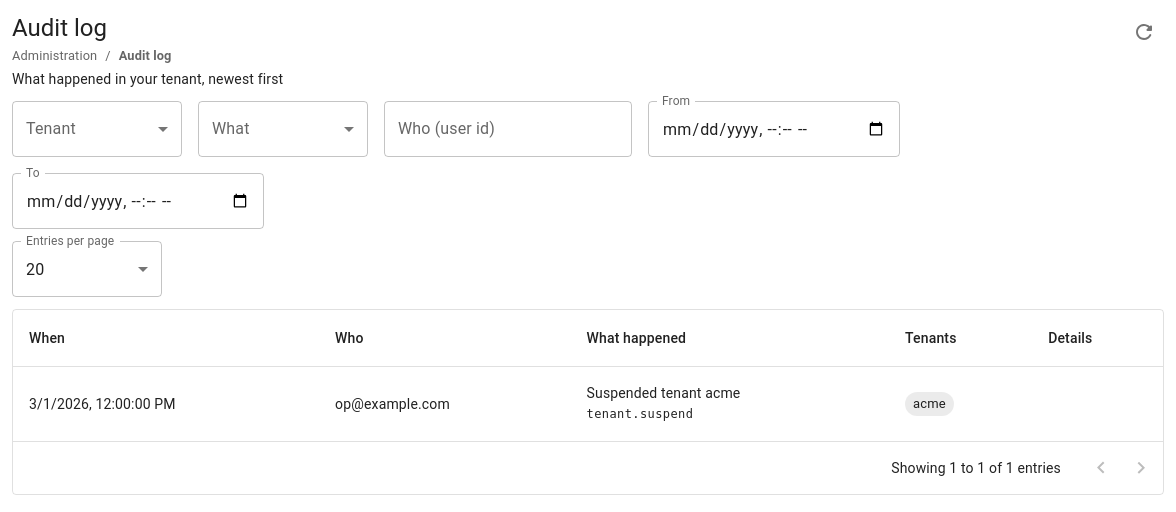
Test: AuditPage › as a tenant manager › does not offer to filter by sign-ins, which are not theirs to see
Expected: the text "Suspended tenant acme" is shown, [586, 385, 740, 401]
Click the 2nd dropdown named "What": (283, 129) [198, 101, 368, 157]
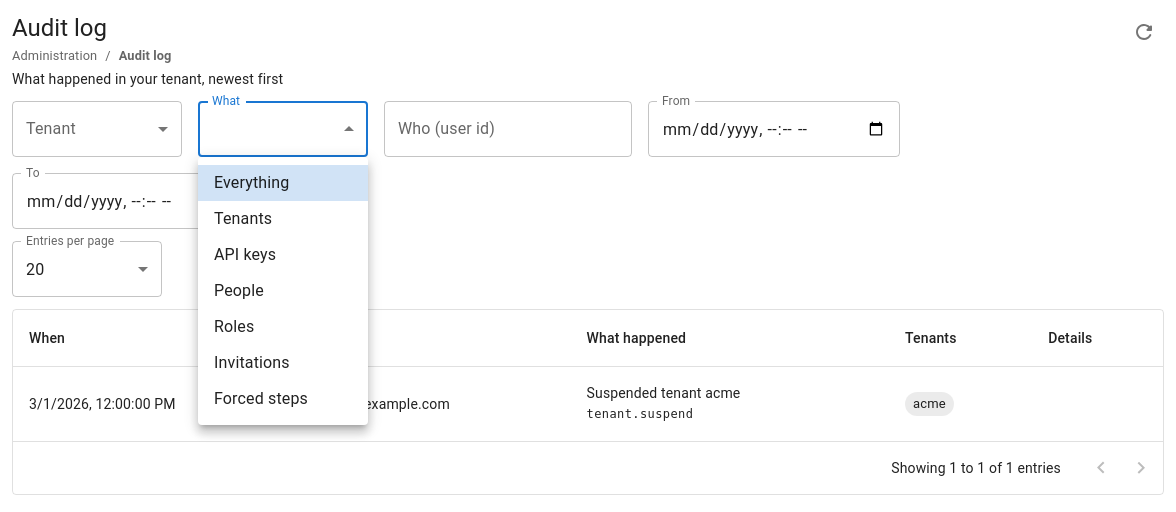
Expected: the option "API keys" is shown, [214, 245, 276, 264]
